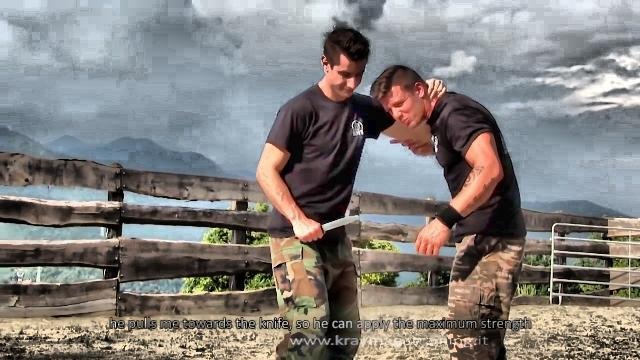knife: (292, 210, 362, 246)
